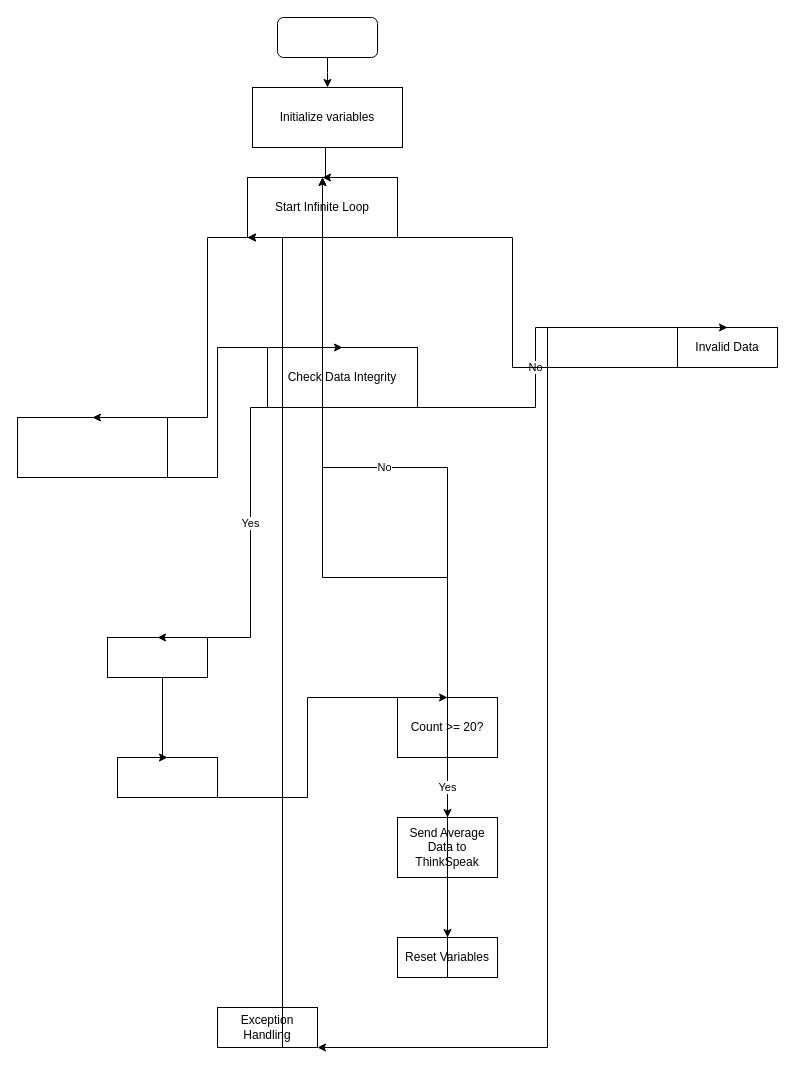
The diagram is 803 pixels wide and 1073 high, and some of its shapes have lost their labels. The centre of each missing label's shape, as x and y in pixels:
"Receive frame from Slave" belongs at point (92, 447).
"Send LED Data" belongs at point (167, 777).
"Start" belongs at point (327, 37).
"Valid Data" belongs at point (157, 657).
